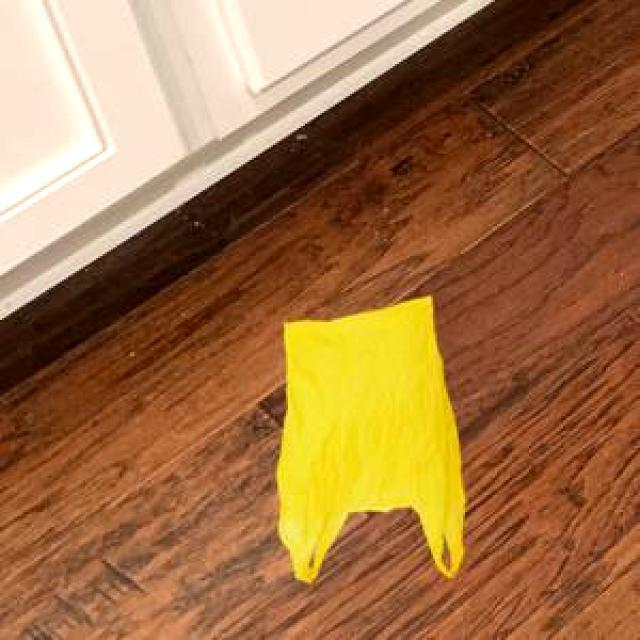Plastic_Bag: (274, 294, 462, 580)
